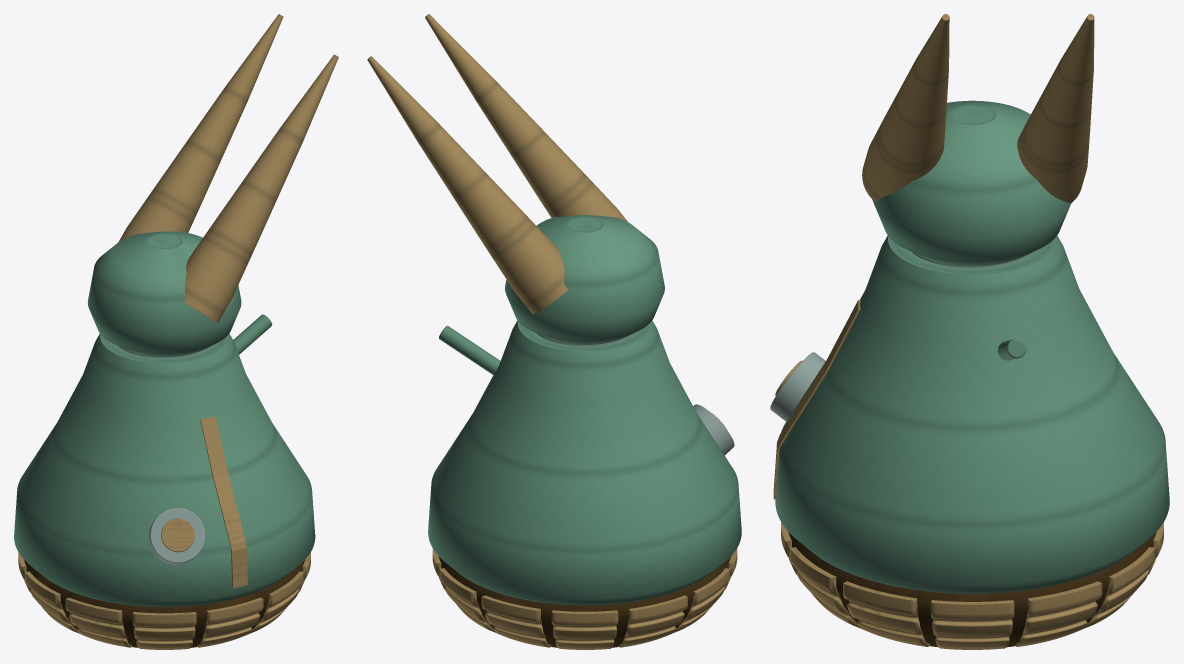
3 renders of one model, left to right at view 1: azimuth 30°, elevation 25°; view 2: azimuth 150°, elevation 25°; view 3: azimuth 270°, elevation 25°, orthographic. The views are drawn at different scales.
Visible parts, largest first — view 1: RI23 fixed green pedestal, RI23 rotating green head, RI23 bronze lance -1, RI23 bronze lance 1, RI23 fixed bronze skirt, RI23 bronze front strip, RI23 bronze skirt segment 08, RI23 bronze skirt segment 07, RI23 bronze skirt segment 09, RI23 base fitting bezel, RI23 bronze skirt segment 10, RI23 bronze skirt segment 06 (+2 smaller); view 2: RI23 fixed green pedestal, RI23 rotating green head, RI23 bronze lance 1, RI23 bronze lance -1, RI23 fixed bronze skirt, RI23 bronze skirt segment 04, RI23 bronze skirt segment 03, RI23 bronze skirt segment 05, RI23 bronze skirt segment 06, RI23 bronze skirt segment 02, RI23 fixed green spur, RI23 base fitting bezel; view 3: RI23 fixed green pedestal, RI23 rotating green head, RI23 bronze lance -1, RI23 bronze lance 1, RI23 fixed bronze skirt, RI23 bronze skirt segment 00, RI23 bronze skirt segment 11, RI23 bronze skirt segment 01, RI23 bronze skirt segment 10, RI23 bronze skirt segment 02, RI23 base fitting bezel, RI23 bronze front strip.
Part boxes in pixels (x1=…): RI23 fixed green pedestal: x1=14, y1=333, x2=315, y2=607; RI23 rotating green head: x1=87, y1=231, x2=241, y2=356; RI23 bronze lance -1: x1=183, y1=54, x2=338, y2=323; RI23 bronze lance 1: x1=119, y1=14, x2=283, y2=241; RI23 fixed bronze skirt: x1=24, y1=560, x2=304, y2=647; RI23 bronze front strip: x1=200, y1=416, x2=247, y2=588; RI23 bronze skirt segment 08: x1=132, y1=612, x2=196, y2=649; RI23 bronze skirt segment 07: x1=65, y1=597, x2=131, y2=647; RI23 bronze skirt segment 09: x1=197, y1=597, x2=263, y2=647; RI23 base fitting bezel: x1=149, y1=508, x2=205, y2=564; RI23 bronze skirt segment 10: x1=249, y1=571, x2=304, y2=633; RI23 bronze skirt segment 06: x1=25, y1=571, x2=79, y2=633; RI23 fixed green pedestal: x1=428, y1=320, x2=741, y2=605; RI23 rotating green head: x1=505, y1=215, x2=664, y2=344; RI23 bronze lance 1: x1=367, y1=56, x2=567, y2=313; RI23 bronze lance -1: x1=425, y1=14, x2=627, y2=221; RI23 fixed bronze skirt: x1=438, y1=556, x2=731, y2=647; RI23 bronze skirt segment 04: x1=551, y1=610, x2=618, y2=649; RI23 bronze skirt segment 03: x1=481, y1=595, x2=550, y2=647; RI23 bronze skirt segment 05: x1=618, y1=595, x2=687, y2=647; RI23 bronze skirt segment 06: x1=673, y1=568, x2=730, y2=632; RI23 bronze skirt segment 02: x1=439, y1=568, x2=496, y2=632; RI23 fixed green spur: x1=439, y1=326, x2=500, y2=374; RI23 base fitting bezel: x1=693, y1=404, x2=734, y2=455; RI23 fixed green pedestal: x1=775, y1=235, x2=1169, y2=593; RI23 rotating green head: x1=872, y1=100, x2=1071, y2=266; RI23 bronze lance -1: x1=862, y1=14, x2=949, y2=201; RI23 bronze lance 1: x1=1017, y1=14, x2=1094, y2=203; RI23 fixed bronze skirt: x1=788, y1=532, x2=1156, y2=647; RI23 bronze skirt segment 00: x1=930, y1=600, x2=1014, y2=649; RI23 bronze skirt segment 11: x1=843, y1=581, x2=929, y2=646; RI23 bronze skirt segment 01: x1=1015, y1=581, x2=1102, y2=646; RI23 bronze skirt segment 10: x1=789, y1=547, x2=861, y2=628; RI23 bronze skirt segment 02: x1=1084, y1=547, x2=1155, y2=628; RI23 base fitting bezel: x1=770, y1=352, x2=825, y2=421; RI23 bronze front strip: x1=773, y1=300, x2=860, y2=499.
Bounding box in the file's own units: 1.1 × 1.9 × 0.9927.
7 materials, 5 textured.
